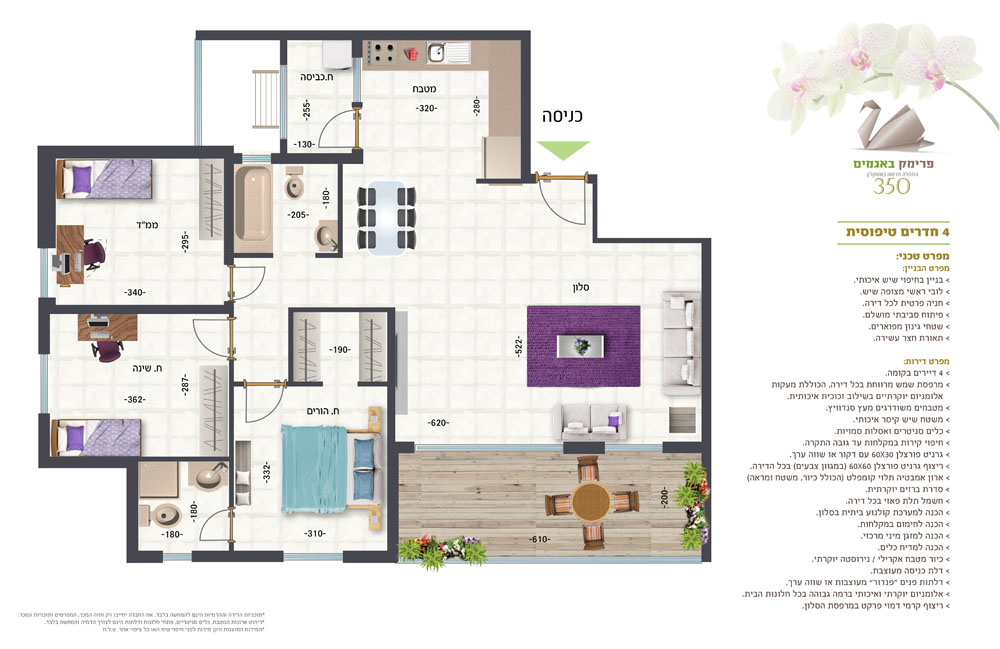door: (536, 189, 591, 230), (190, 314, 227, 362), (315, 104, 349, 152), (241, 390, 290, 422), (237, 261, 270, 300), (198, 504, 225, 548)
wall: (196, 31, 528, 41), (387, 309, 394, 562), (522, 32, 532, 184), (126, 457, 138, 563), (192, 551, 284, 563), (44, 457, 138, 468), (39, 414, 49, 467), (138, 552, 163, 563)
window: (354, 58, 362, 101), (606, 445, 661, 450), (243, 156, 271, 163)
